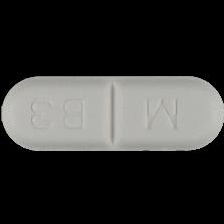55700-100: (0, 0, 224, 224)
